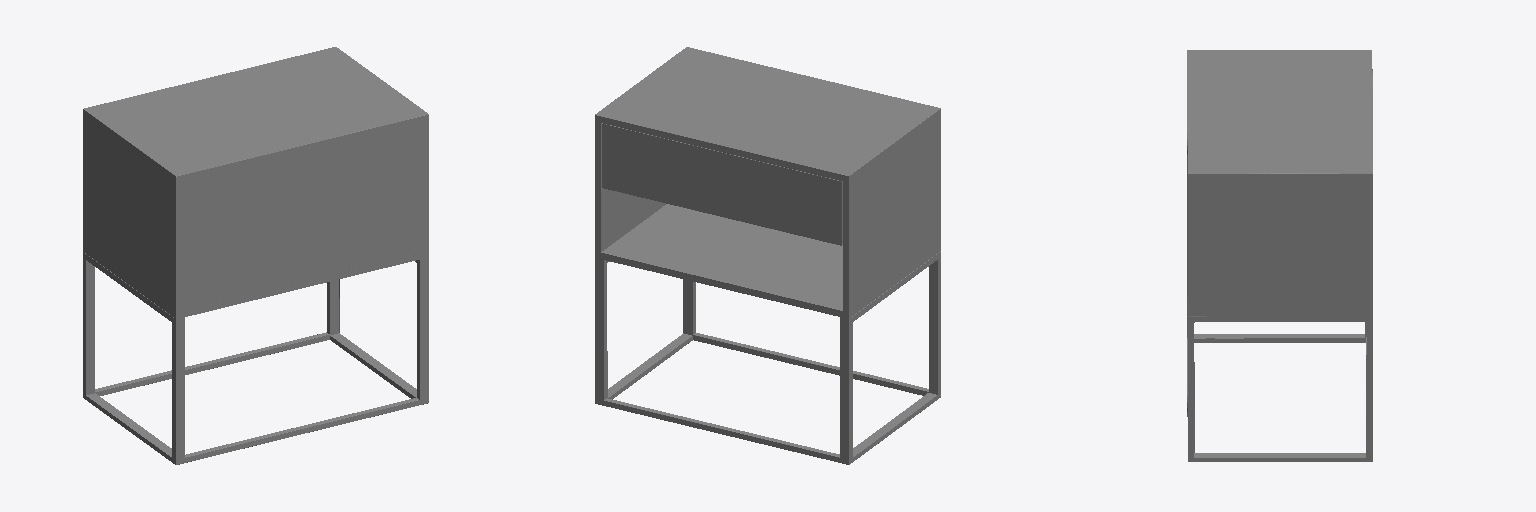
Rendered from porteriam.obj.
3 views of the same model, side by side, from view 1: azimuth 30°, elevation 25°; view 2: azimuth 150°, elevation 25°; view 3: azimuth 270°, elevation 25° (orthographic).
Visible parts, largest first — view 1: Cube_002, Cube_012, Cube_013, Cube_005, Cube_015, Cube_014; view 2: Cube_002, Cube_005, Cube_006, Cube_012, Cube_013, Cube_014, Cube_015; view 3: Cube_002, Cube_013, Cube_012, Cube_005.
Boxes of the visible parts, x1,y1,x2,y2 form: Cube_002: [83, 47, 428, 312]; Cube_012: [83, 252, 184, 464]; Cube_013: [327, 257, 428, 404]; Cube_005: [83, 246, 428, 318]; Cube_015: [185, 398, 419, 462]; Cube_014: [95, 332, 329, 395]; Cube_002: [595, 47, 940, 312]; Cube_005: [595, 204, 940, 318]; Cube_006: [602, 123, 842, 245]; Cube_012: [840, 251, 940, 464]; Cube_013: [595, 258, 695, 405]; Cube_014: [598, 398, 846, 464]; Cube_015: [693, 333, 928, 395]; Cube_002: [1187, 50, 1372, 309]; Cube_013: [1188, 316, 1372, 461]; Cube_012: [1187, 297, 1366, 342]; Cube_005: [1187, 291, 1372, 315].
Bounding box in the file's own units: 17.15 × 18.58 × 10.89.